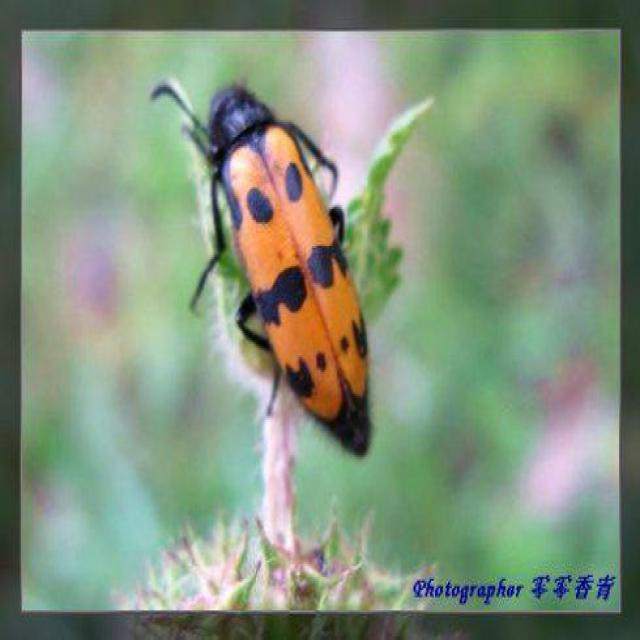BlisterBeetle-Adult-: (152, 68, 380, 468)
